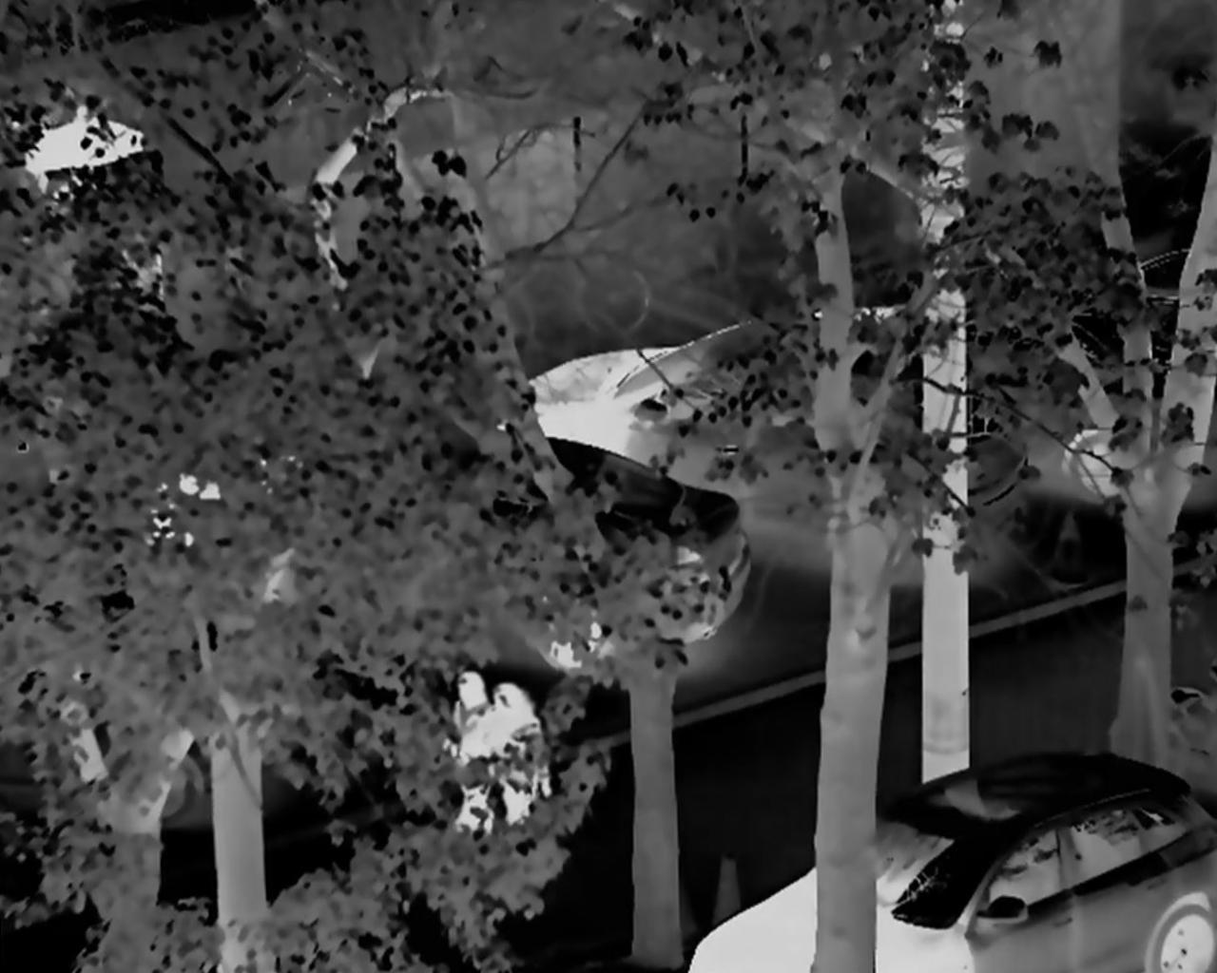person: (491, 675, 550, 861), (437, 675, 494, 863)
